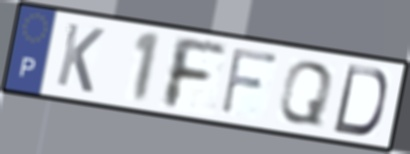1: (130, 30, 163, 105)
D: (329, 62, 390, 138)
F: (162, 33, 229, 113), (217, 44, 282, 117)
K: (53, 20, 107, 96)
Q: (275, 59, 337, 128)
